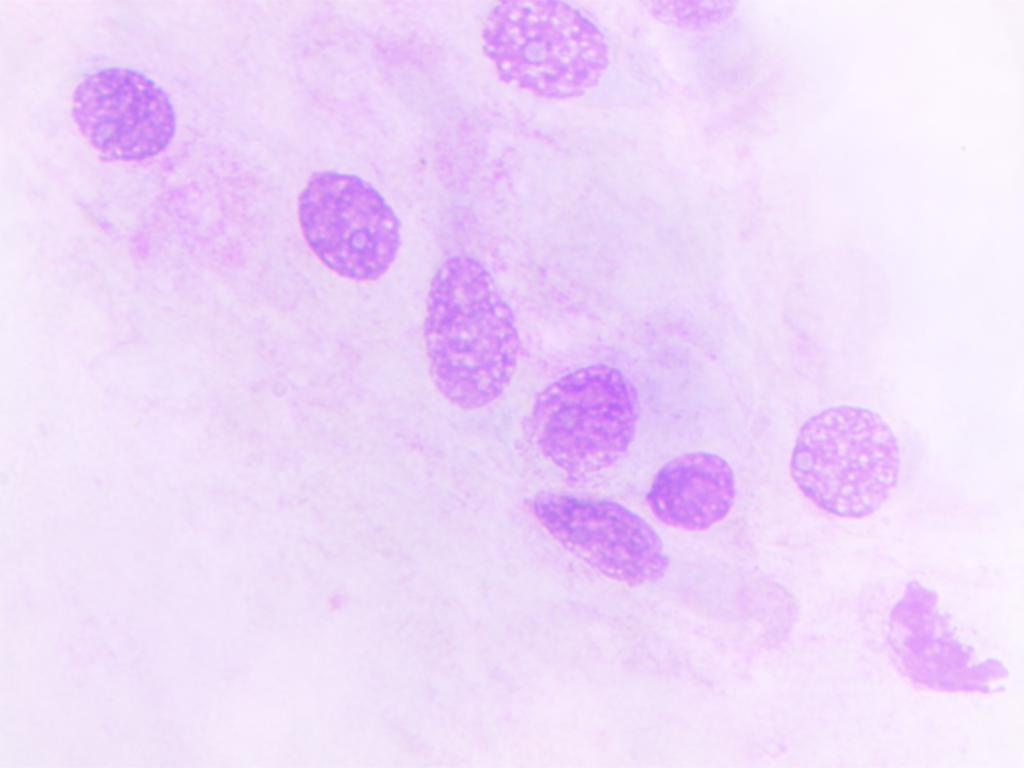epithelial: (58, 59, 249, 277), (404, 116, 516, 413), (276, 140, 419, 308), (786, 387, 924, 546), (472, 0, 641, 122), (872, 578, 1017, 709), (510, 492, 668, 602), (521, 361, 644, 492), (641, 449, 746, 532)
